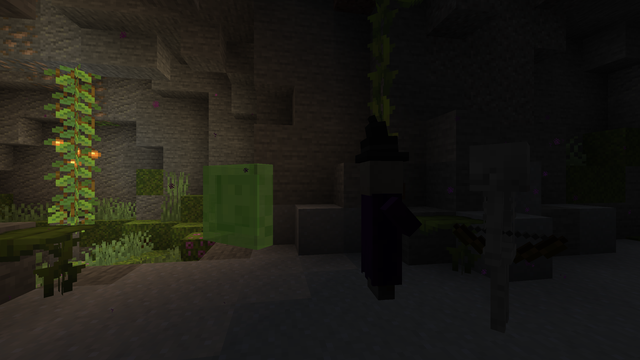slimes: (208, 160, 295, 247)
sorcieres: (353, 154, 409, 303)
squelettes: (457, 142, 549, 342)
